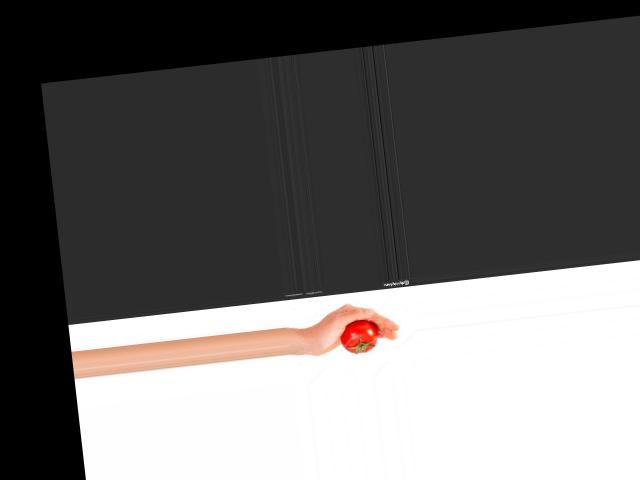tomato: (337, 318, 378, 354)
